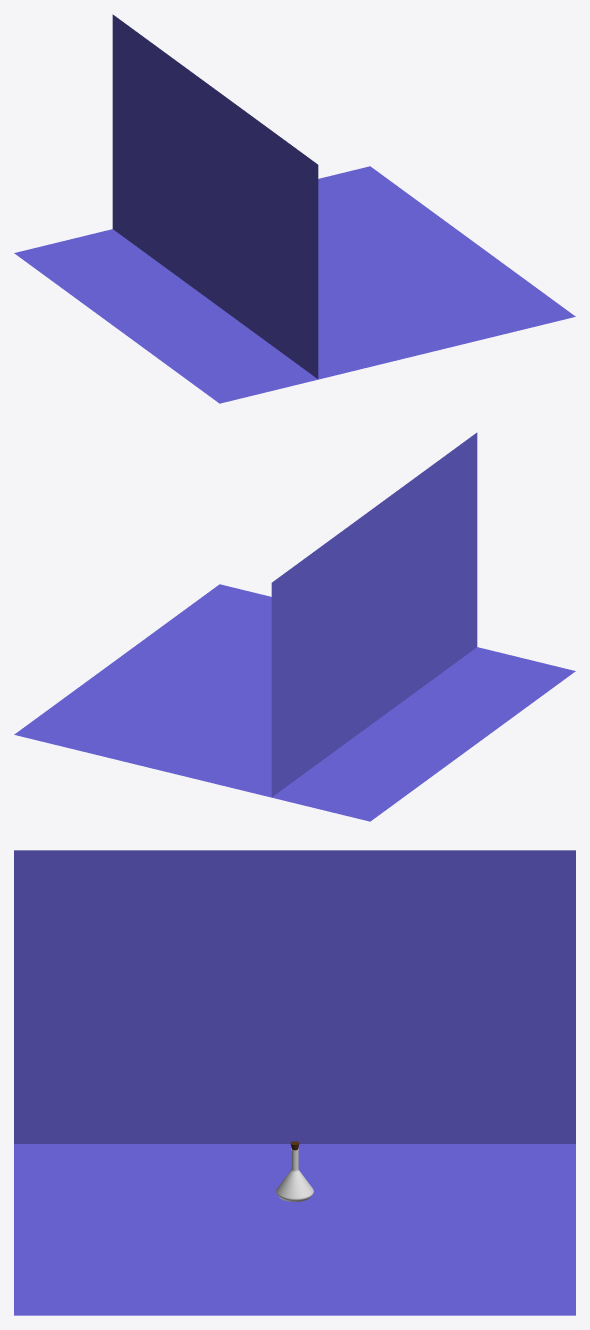
The model's file is Potion.fbx.
3 views of the same model, one above another, from view 1: azimuth 30°, elevation 25°; view 2: azimuth 150°, elevation 25°; view 3: azimuth 270°, elevation 25° (orthographic). The views are drawn at different scales.
Parts seen in each view (by area): view 1: Fond; view 2: Fond; view 3: Fond, Fiole.
Boxes of the visible parts, left/top/right/bottom form: Fond: left=14, top=14, right=575, bottom=403; Fond: left=14, top=432, right=575, bottom=821; Fond: left=14, top=850, right=575, bottom=1315; Fiole: left=276, top=1148, right=313, bottom=1201.
Bounding box in the file's own units: 3450 × 1987 × 3450.
